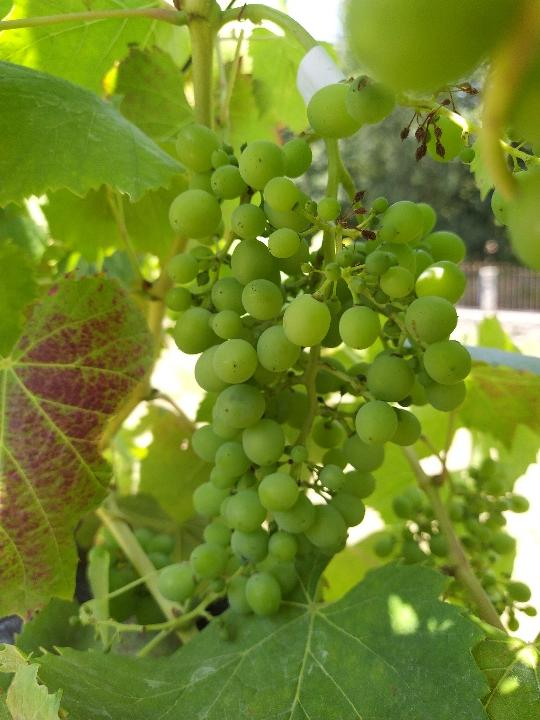grape: (157, 121, 475, 631)
